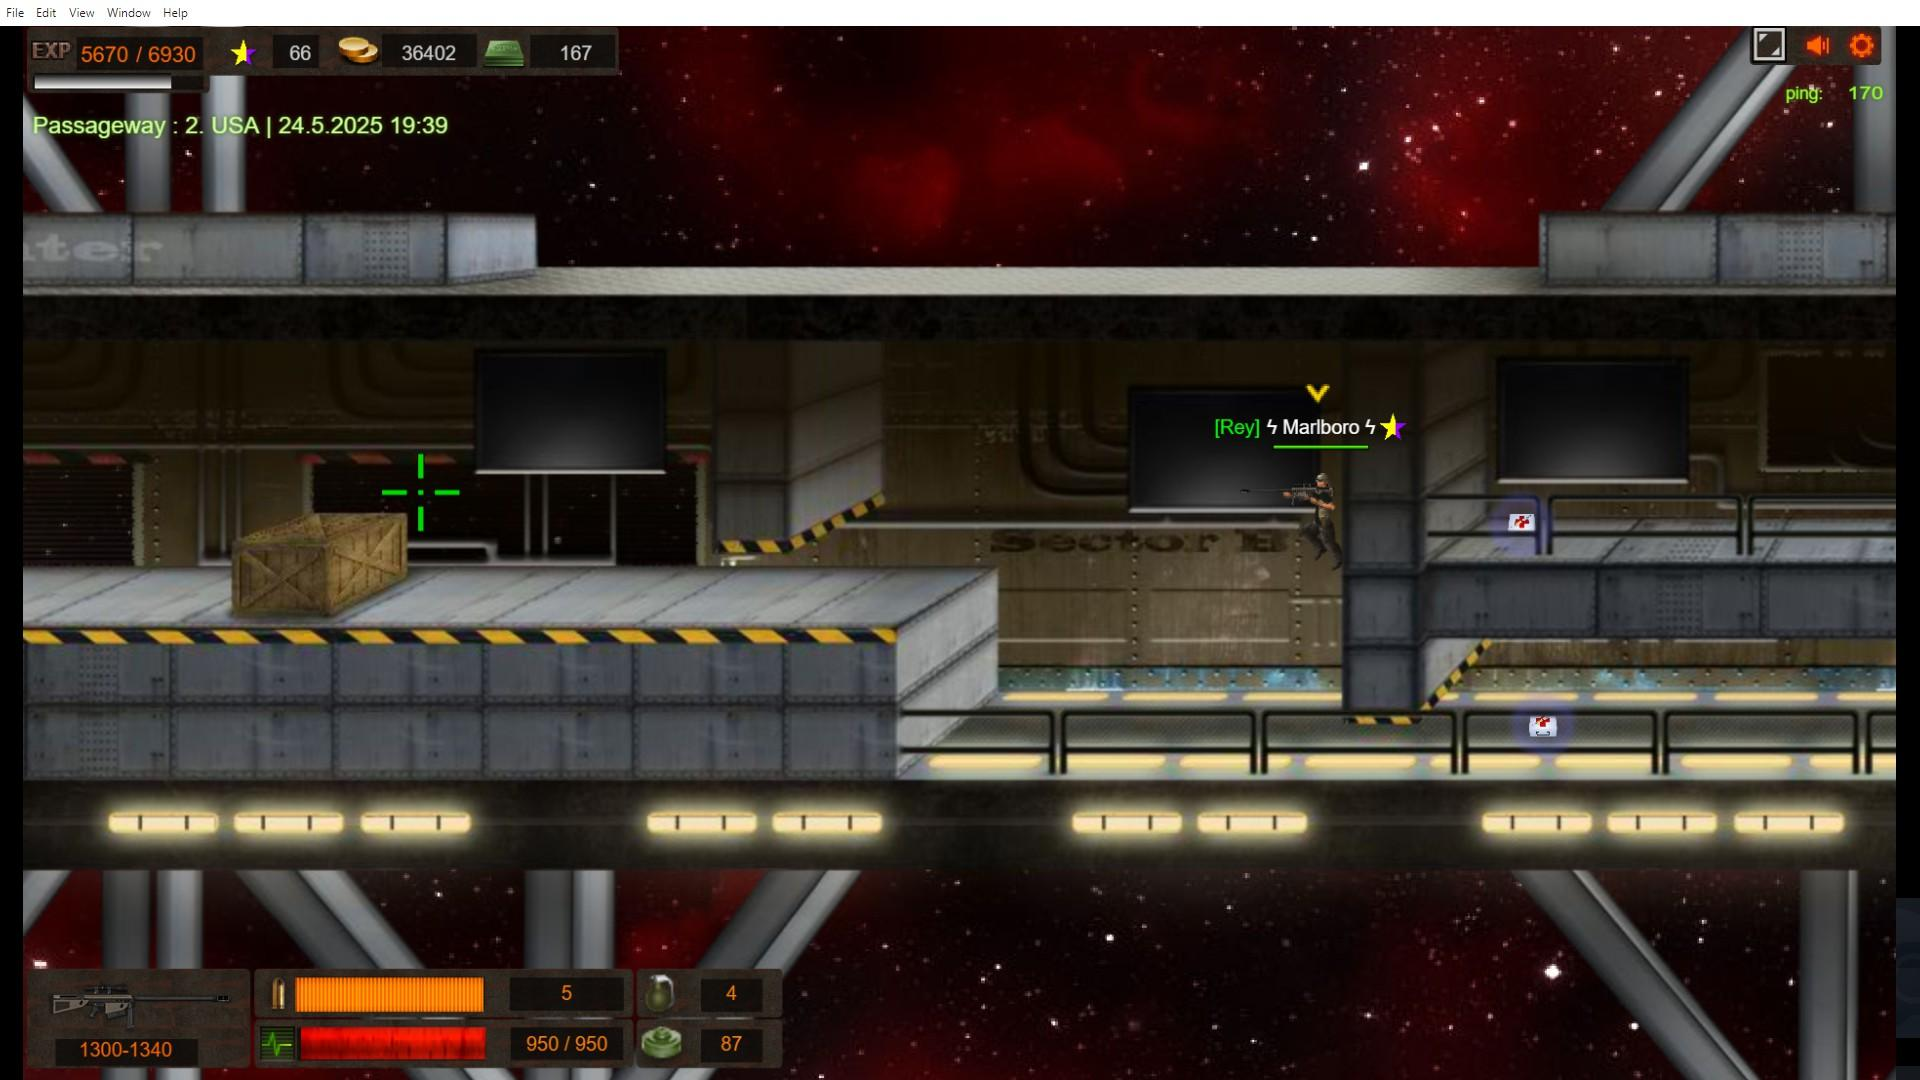enemy: (1303, 475, 1336, 559)
